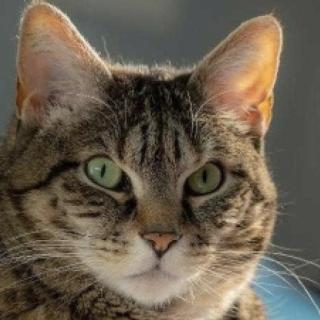cat: (5, 4, 286, 310)
nose: (132, 206, 185, 261)
